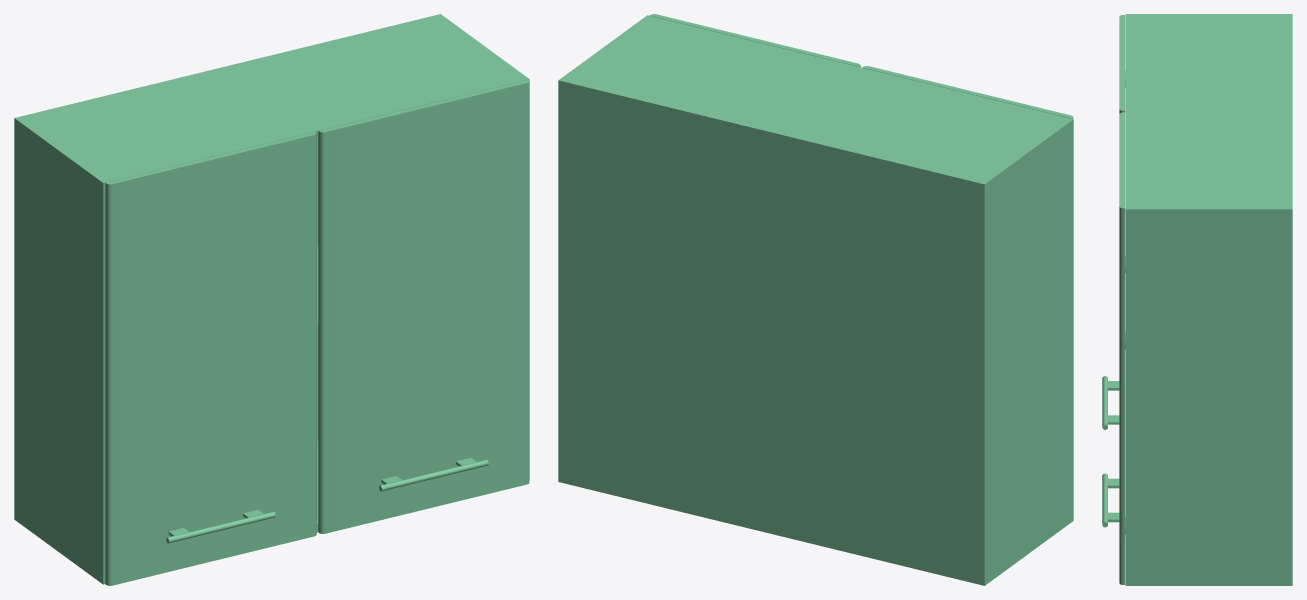
Rendered from hospital_kitchen_module_5.fbx.
The picture shows the model from 3 angles, left to right: view 1: azimuth 30°, elevation 25°; view 2: azimuth 150°, elevation 25°; view 3: azimuth 270°, elevation 25°; orthographic projection. The views are drawn at different scales.
Parts seen in each view (by area): view 1: hospital_kitchen_module_5; view 2: hospital_kitchen_module_5; view 3: hospital_kitchen_module_5.
Part boxes in pixels (x1,y1,x2,y2): hospital_kitchen_module_5: (14,14,529,585); hospital_kitchen_module_5: (558,14,1073,585); hospital_kitchen_module_5: (1102,14,1292,585).
Size of the model in its own units: 80 by 72 by 32.97.
